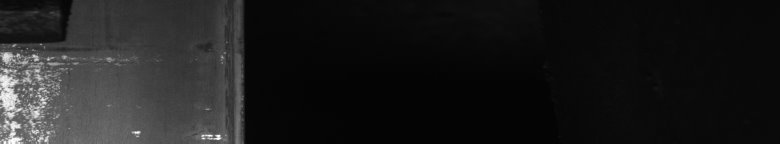kb: (4, 11, 141, 136)
